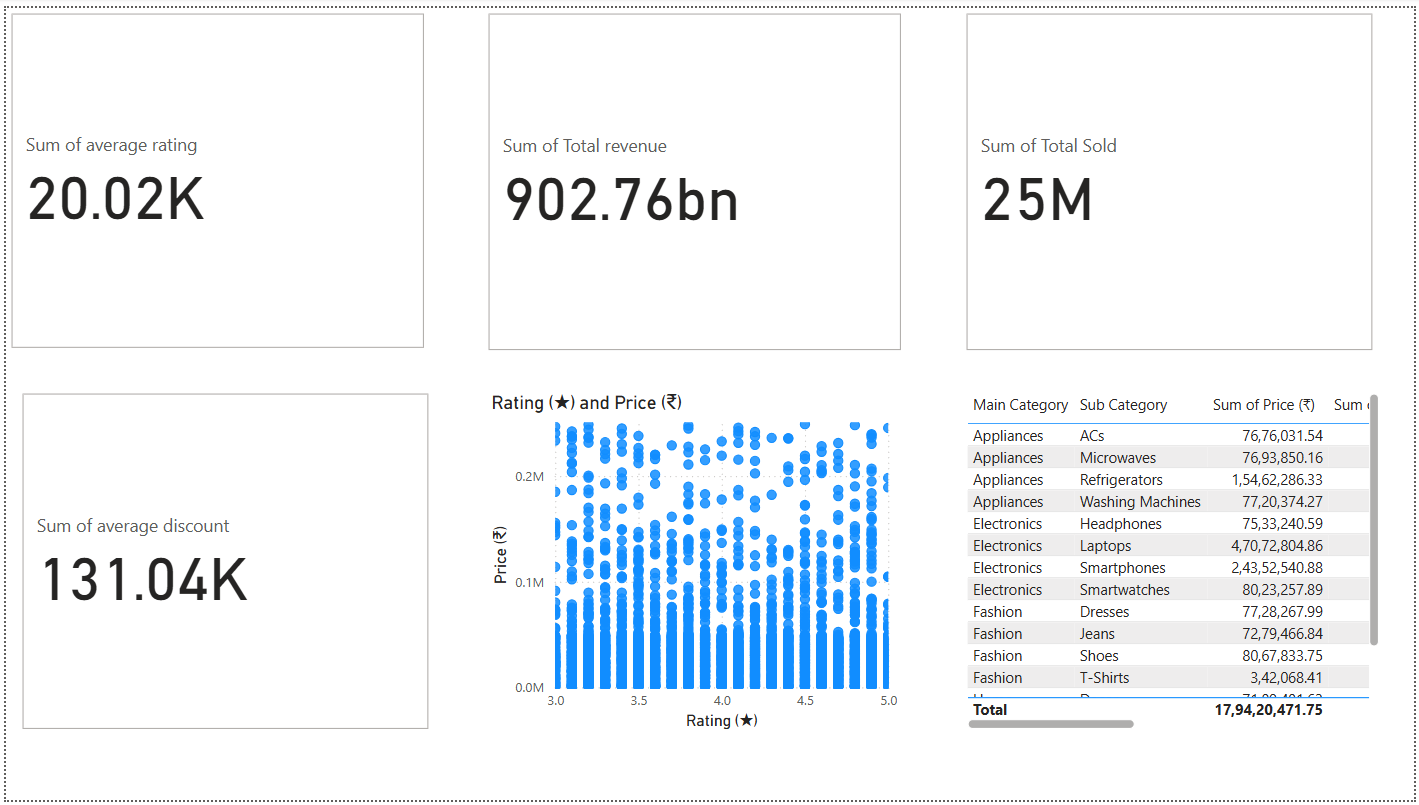

Layout of this report page (visuals, bound fields, positions):
{"tool":"powerbi","page":{"name":"Page 3","canvas":[1280,720],"ordinal":2},"visuals":[{"type":"scatterChart","fields":{"X":["flipkart_products_with_images.Rating (★)"],"Y":["flipkart_products_with_images.Price (₹)"]},"box":[433.6,337.3,379.1,316.4],"z":0},{"type":"cardVisual","fields":{"Data":["Sum(flipkart_products_with_images.Total revenue)"]},"box":[433.6,0,385.5,316.4],"z":1},{"type":"cardVisual","fields":{"Data":["Sum(flipkart_products_with_images.Total Sold)"]},"box":[868.2,0,379.1,316.4],"z":2},{"type":"cardVisual","fields":{"Data":["Sum(flipkart_products_with_images.average discount)"]},"box":[10,345.5,379.1,315.5],"z":3},{"type":"cardVisual","fields":{"Data":["Sum(flipkart_products_with_images.average rating)"]},"box":[0,0,385.5,314.5],"z":4},{"type":"tableEx","fields":{"Values":["flipkart_products_with_images.Main Category","flipkart_products_with_images.Sub Category","Sum(flipkart_products_with_images.Price (₹))","Sum(flipkart_products_with_images.Discount (%))","Sum(flipkart_products_with_images.Total Sold)","Sum(flipkart_products_with_images.Total revenue)","Sum(flipkart_products_with_images.Number of Buyers)"]},"box":[868.2,345.5,385.5,315.5],"z":5}]}

Visuals, with their boxes in screenshot pixels (x1, y1, x2, y2), scaled from the page's 1280x720 canvas onto the 1419x805 screenshot:
scatterChart - flipkart_products_with_images.Rating (★) x flipkart_products_with_images.Price (₹): 481,377,901,731
cardVisual - Sum(flipkart_products_with_images.Total revenue): 481,0,908,354
cardVisual - Sum(flipkart_products_with_images.Total Sold): 962,0,1383,354
cardVisual - Sum(flipkart_products_with_images.average discount): 11,386,431,739
cardVisual - Sum(flipkart_products_with_images.average rating): 0,0,427,352
tableEx - flipkart_products_with_images.Main Category x flipkart_products_with_images.Sub Category: 962,386,1390,739
